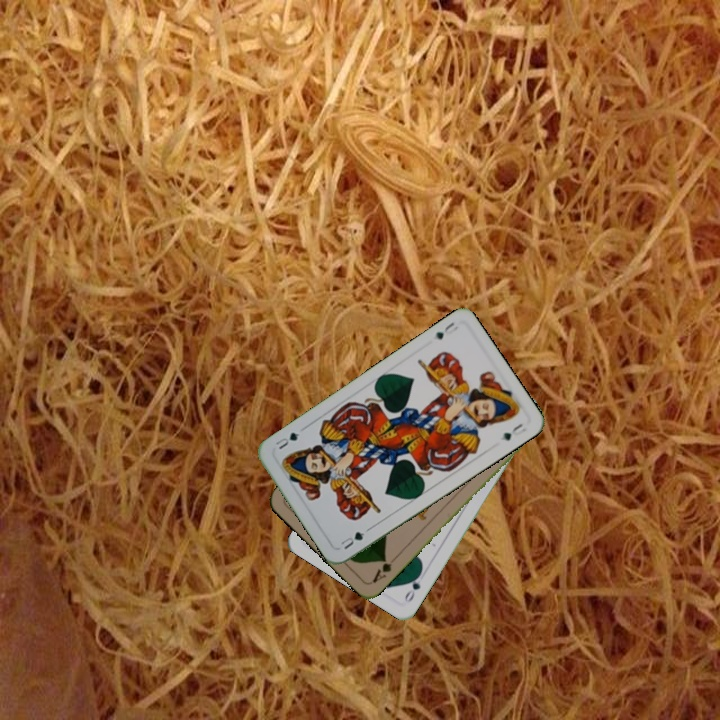GA: (368, 552, 400, 586)
GO: (400, 567, 424, 605)
GU: (337, 524, 372, 552), (431, 318, 461, 342)
